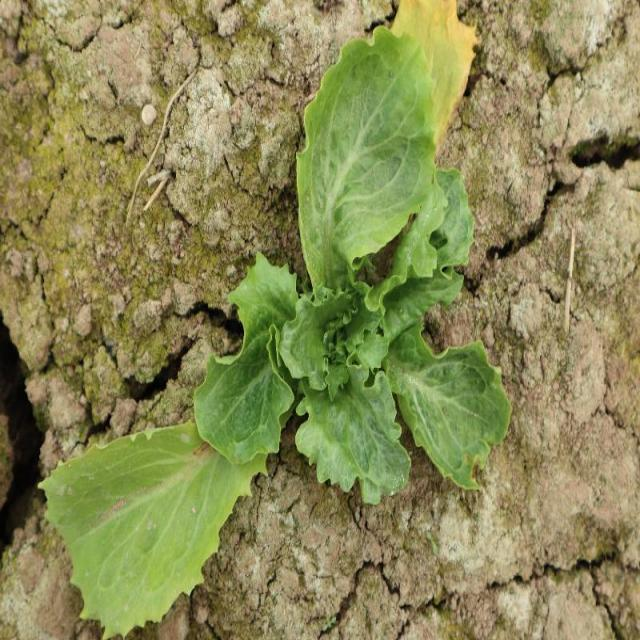crop: (38, 27, 511, 634)
